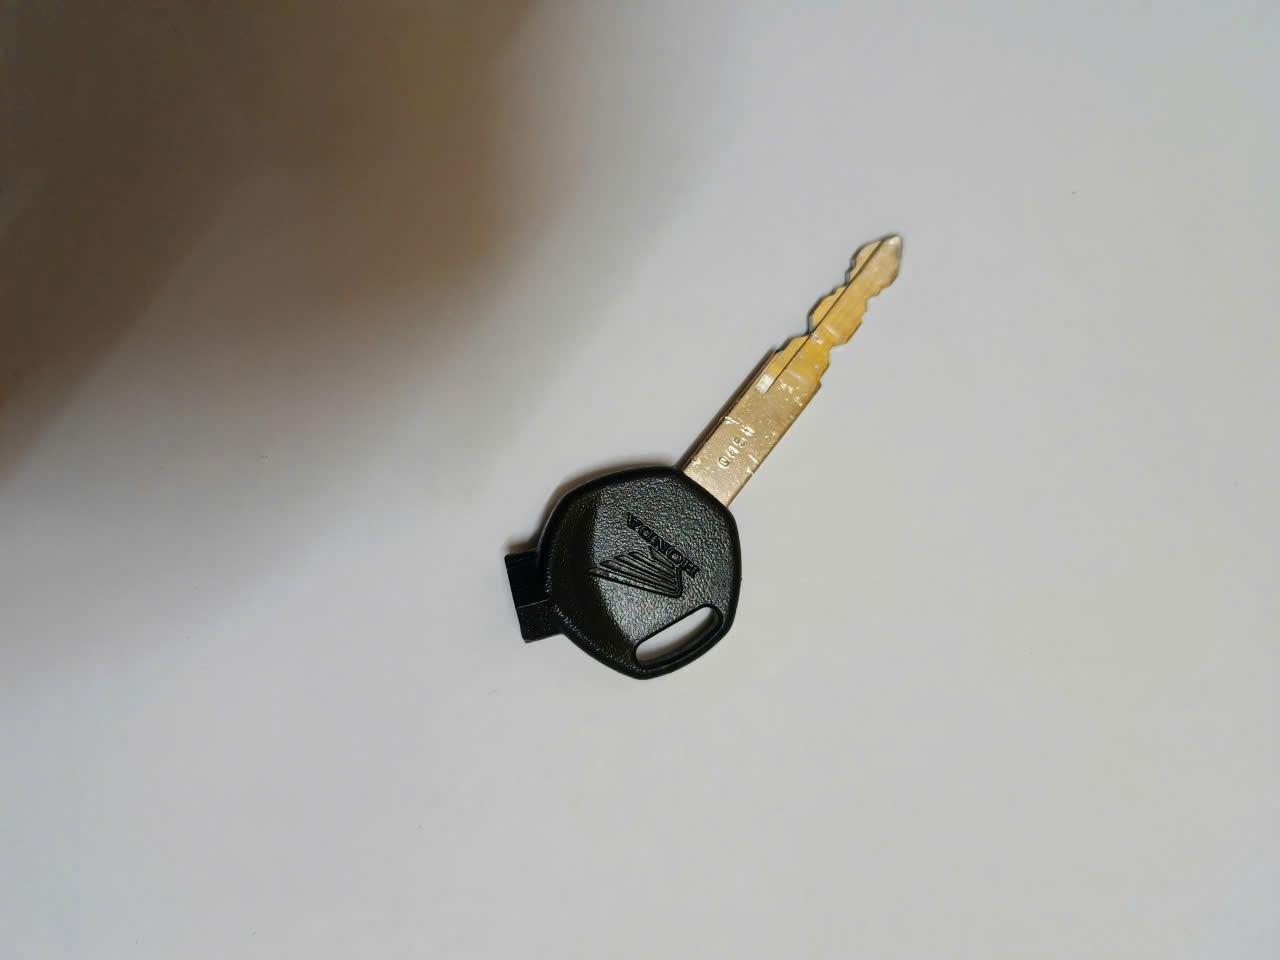Vo co: (504, 229, 909, 683)
